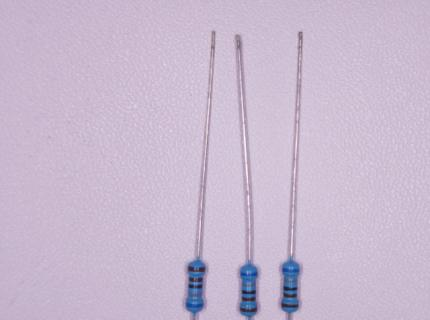Black band: (283, 286, 298, 291), (189, 284, 203, 289), (242, 290, 256, 294)
Blue band: (185, 303, 204, 308), (282, 268, 300, 273), (240, 272, 258, 276)
Brown band: (187, 266, 206, 272), (281, 303, 299, 308), (240, 307, 257, 312), (189, 277, 203, 283), (283, 293, 298, 298), (242, 297, 256, 302)
Grey band: (242, 282, 256, 287), (284, 279, 298, 283), (188, 293, 202, 297)
